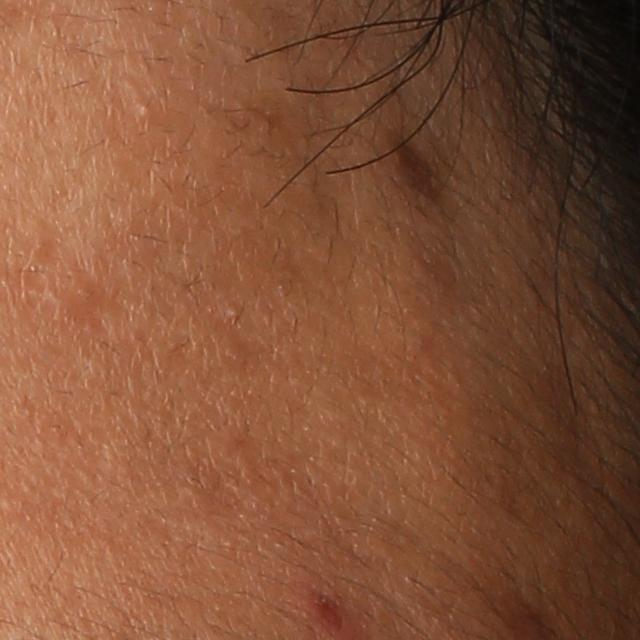comedo: (224, 302, 243, 323), (133, 100, 152, 118)
